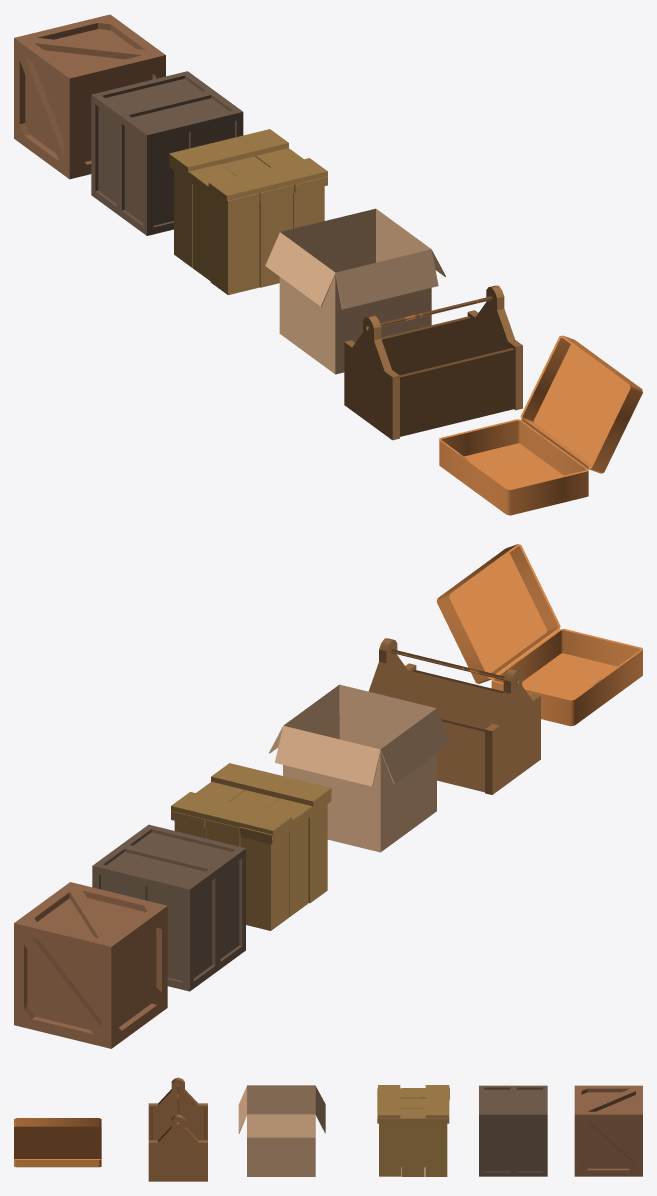
Rendered from xiangzi.FBX.
3 views of the same model, one above another, from view 1: azimuth 30°, elevation 25°; view 2: azimuth 150°, elevation 25°; view 3: azimuth 270°, elevation 25° (orthographic). The views are drawn at different scales.
Parts seen in each view (by area): view 1: hou:Box596, hou:Box721, hou:Box718, hou:Box535, hou:Box558, 对象001, 对象003, 对象002, hou:Box557, 对象005, 对象008, 对象007; view 2: hou:Box558, hou:Box718, hou:Box596, hou:Box535, hou:Box721, 对象001, 对象005, 对象002, 对象003, 对象008; view 3: hou:Box718, hou:Box535, hou:Box558, hou:Box721, hou:Box596, 对象001, 对象004, 对象002, 对象006, 对象007.
Boxes of the visible parts, <box> form: hou:Box596: <box>439,335,642,515</box>; hou:Box721: <box>344,285,522,440</box>; hou:Box718: <box>265,208,445,374</box>; hou:Box535: <box>91,71,243,235</box>; hou:Box558: <box>14,14,165,179</box>; 对象001: <box>169,129,327,200</box>; 对象003: <box>210,197,259,295</box>; 对象002: <box>169,148,327,209</box>; hou:Box557: <box>259,194,292,287</box>; 对象005: <box>174,170,192,267</box>; 对象008: <box>193,184,210,280</box>; 对象007: <box>293,186,324,228</box>; hou:Box558: <box>14,882,167,1048</box>; hou:Box718: <box>269,684,450,852</box>; hou:Box596: <box>437,544,642,726</box>; hou:Box535: <box>92,824,245,991</box>; hou:Box721: <box>368,638,540,794</box>; 对象001: <box>171,763,331,835</box>; 对象005: <box>240,832,289,930</box>; 对象002: <box>171,781,331,844</box>; 对象003: <box>308,804,327,903</box>; 对象008: <box>289,819,308,916</box>; hou:Box718: <box>238,1085,325,1176</box>; hou:Box535: <box>479,1085,547,1176</box>; hou:Box558: <box>574,1085,642,1176</box>; hou:Box721: <box>148,1077,207,1181</box>; hou:Box596: <box>14,1118,101,1167</box>; 对象001: <box>378,1085,449,1118</box>; 对象004: <box>401,1123,424,1176</box>; 对象002: <box>377,1087,449,1123</box>; 对象006: <box>425,1123,447,1176</box>; 对象007: <box>379,1123,401,1176</box>.
Size of the model in its own units: 10.58 by 7.42 by 65.16.
1 material, 1 textured.
